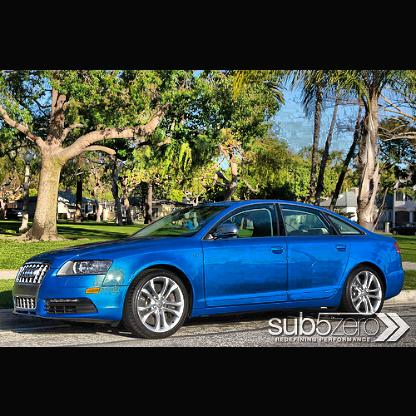Audi S6 Sedan 2011: (14, 199, 405, 338)
